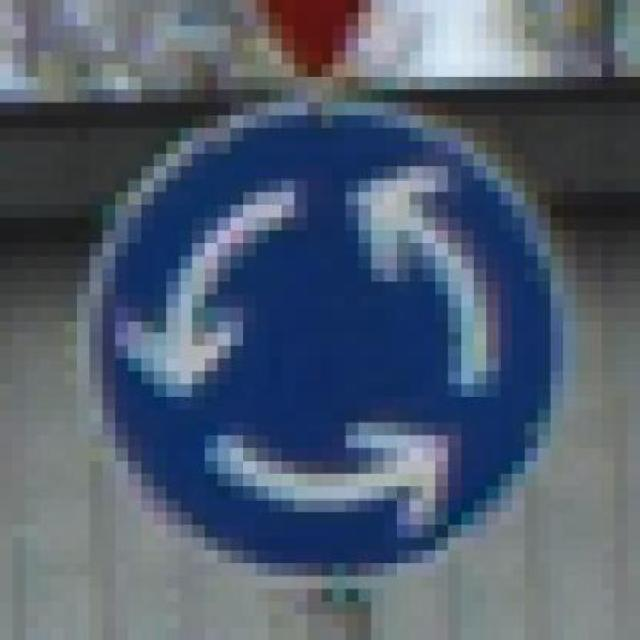Round-About: (76, 90, 576, 588)
